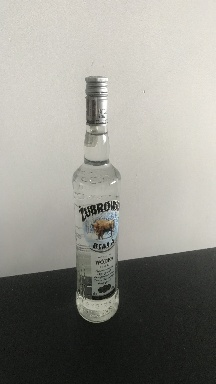butelka: (70, 71, 122, 326)
